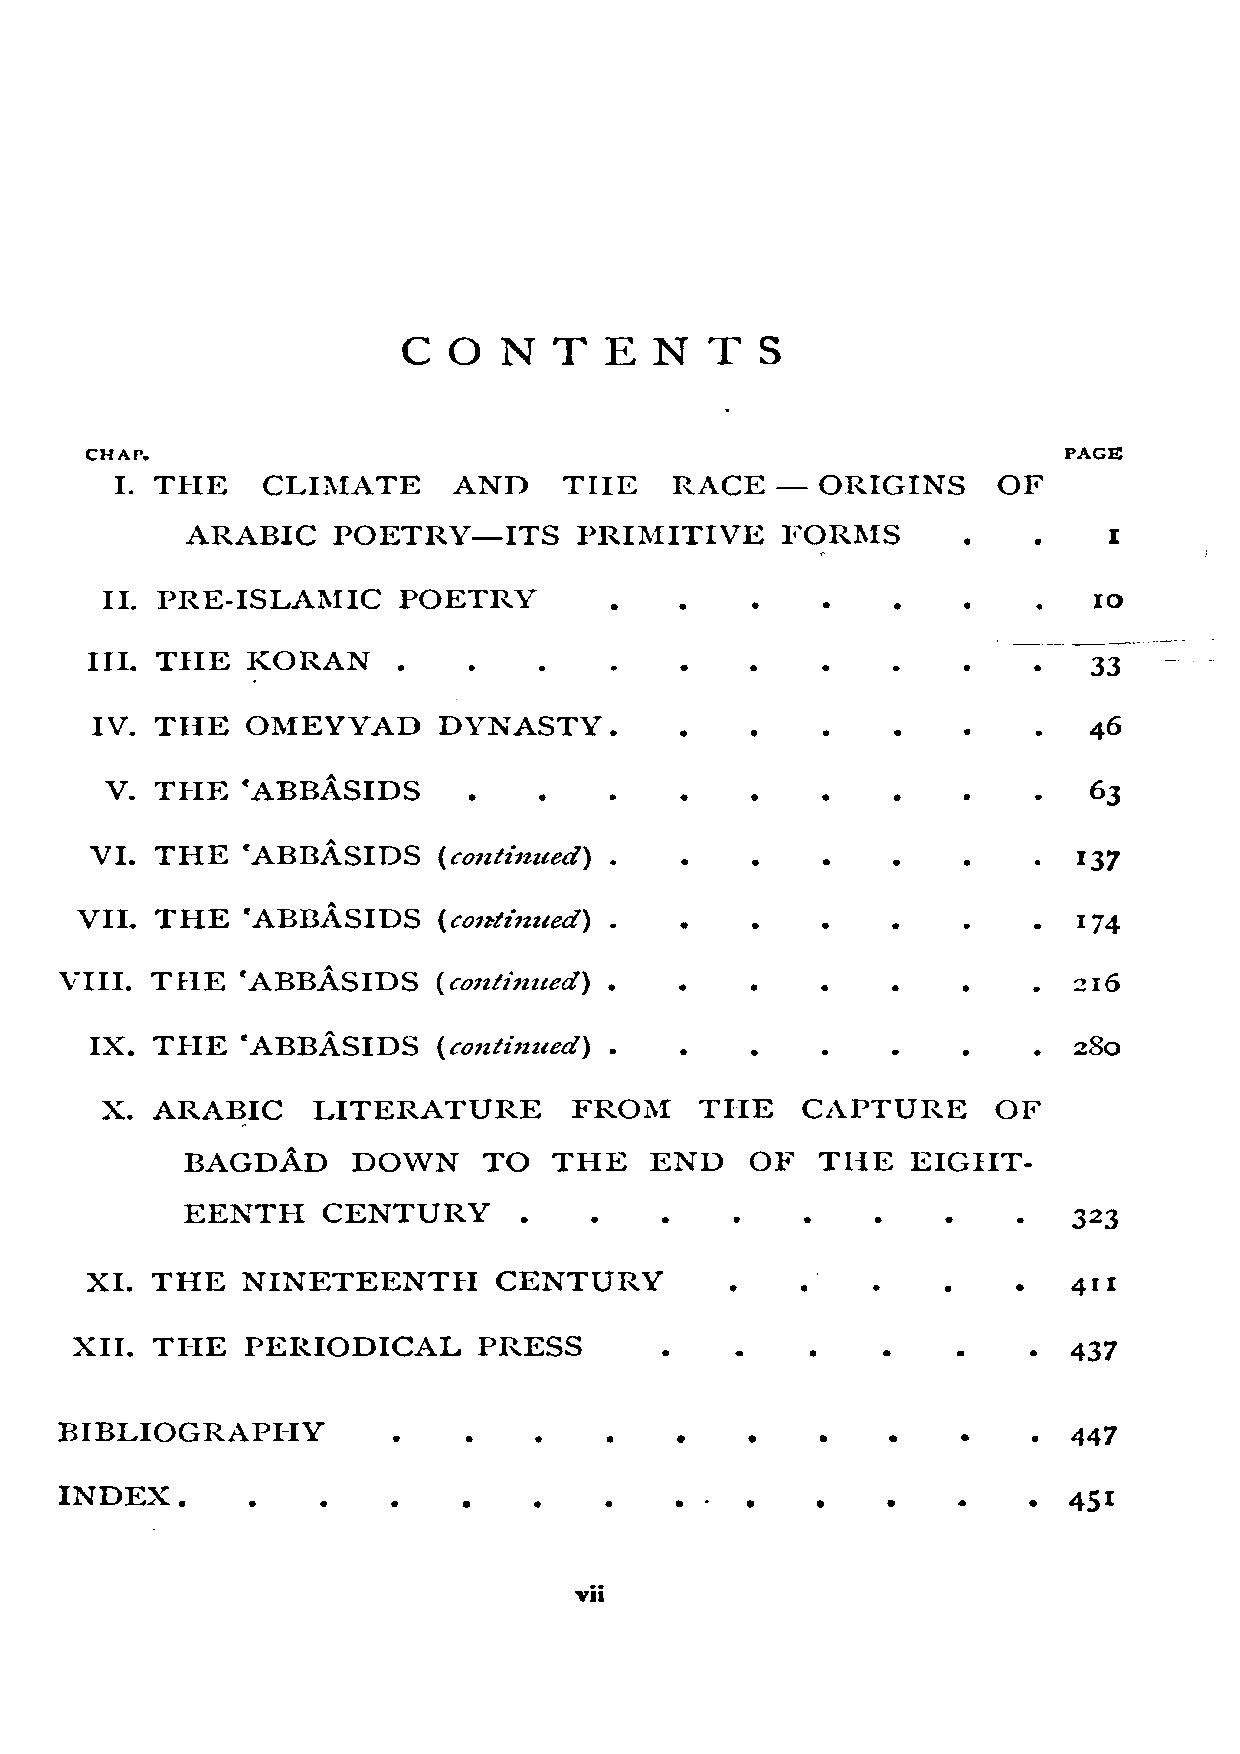TOC_chapter: (95, 1094, 1044, 1228), (103, 466, 1044, 552), (76, 1263, 666, 1300), (62, 1327, 581, 1368), (54, 965, 592, 998), (71, 902, 592, 935), (86, 1031, 599, 1064), (85, 841, 595, 874), (90, 710, 603, 739), (101, 586, 549, 620), (103, 774, 420, 805), (55, 1416, 333, 1449), (90, 648, 386, 678), (59, 1478, 170, 1508)
TOC_pagenumber: (1068, 1202, 1121, 1235), (1070, 1028, 1122, 1057), (1066, 1420, 1117, 1449), (1068, 1268, 1121, 1296), (1083, 709, 1125, 743), (1067, 1486, 1118, 1514), (1075, 910, 1123, 939), (1068, 1337, 1118, 1365), (1071, 970, 1129, 994), (1076, 845, 1125, 870), (1087, 778, 1125, 808), (1090, 586, 1129, 613), (1088, 648, 1123, 678), (1103, 522, 1129, 546)
chapter: (395, 331, 792, 372)
content_pagenumber: (573, 1576, 613, 1604)
